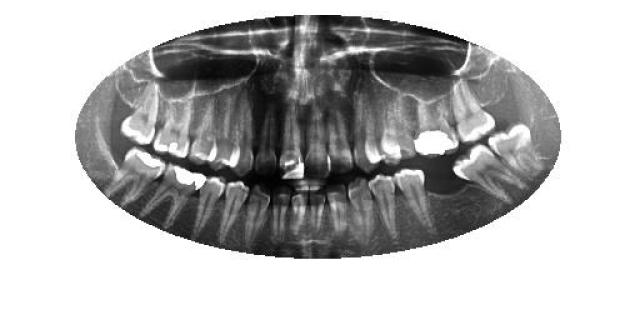Fillings: (140, 164, 205, 228), (106, 144, 166, 208), (412, 96, 458, 158), (154, 94, 192, 158)
